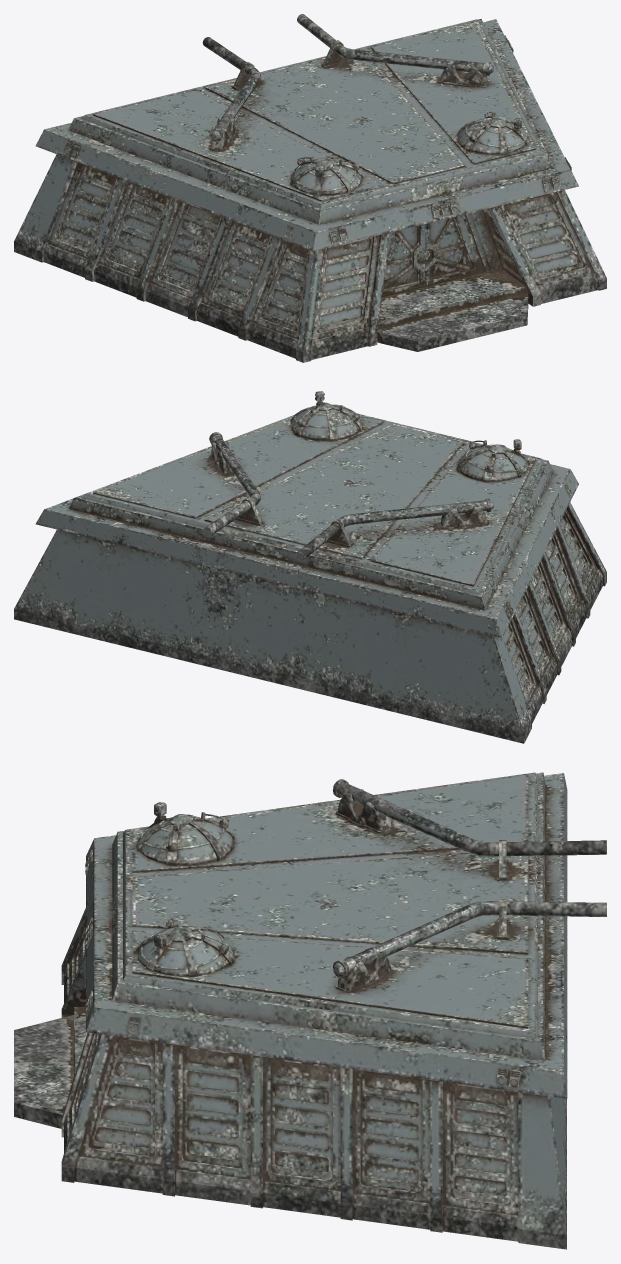
File: bunkerash.glb
3 views of the same model, one above another, from view 1: azimuth 30°, elevation 25°; view 2: azimuth 150°, elevation 25°; view 3: azimuth 270°, elevation 25° (orthographic). The views are drawn at different scales.
Parts seen in each view (by area): view 1: defaultMaterial; view 2: defaultMaterial; view 3: defaultMaterial.
Boxes of the visible parts, bbox=[...] form: defaultMaterial: bbox=[14, 14, 606, 362]; defaultMaterial: bbox=[14, 391, 606, 743]; defaultMaterial: bbox=[14, 772, 606, 1249].
Size of the model in its own units: 12 by 3.5 by 8.9.
Materials: 1 (1 with a texture image).
